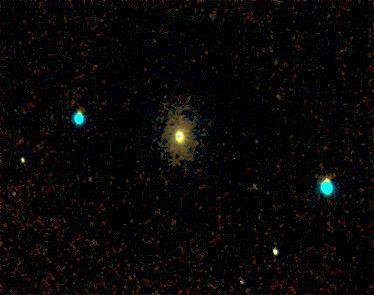star: (266, 85, 296, 115)
